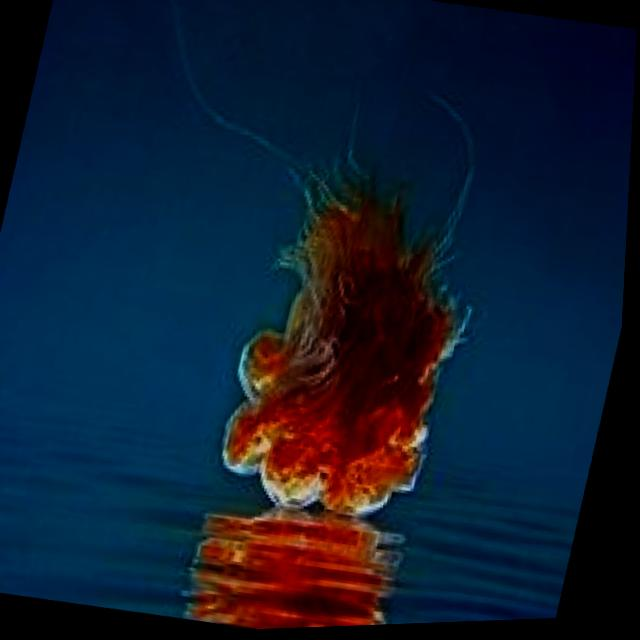Jellyfish: (157, 102, 520, 555)
